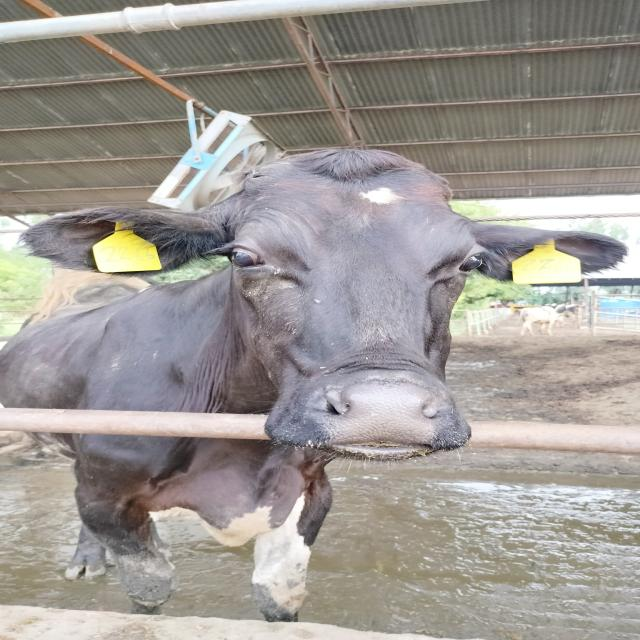muzzles: (289, 366, 466, 458)
